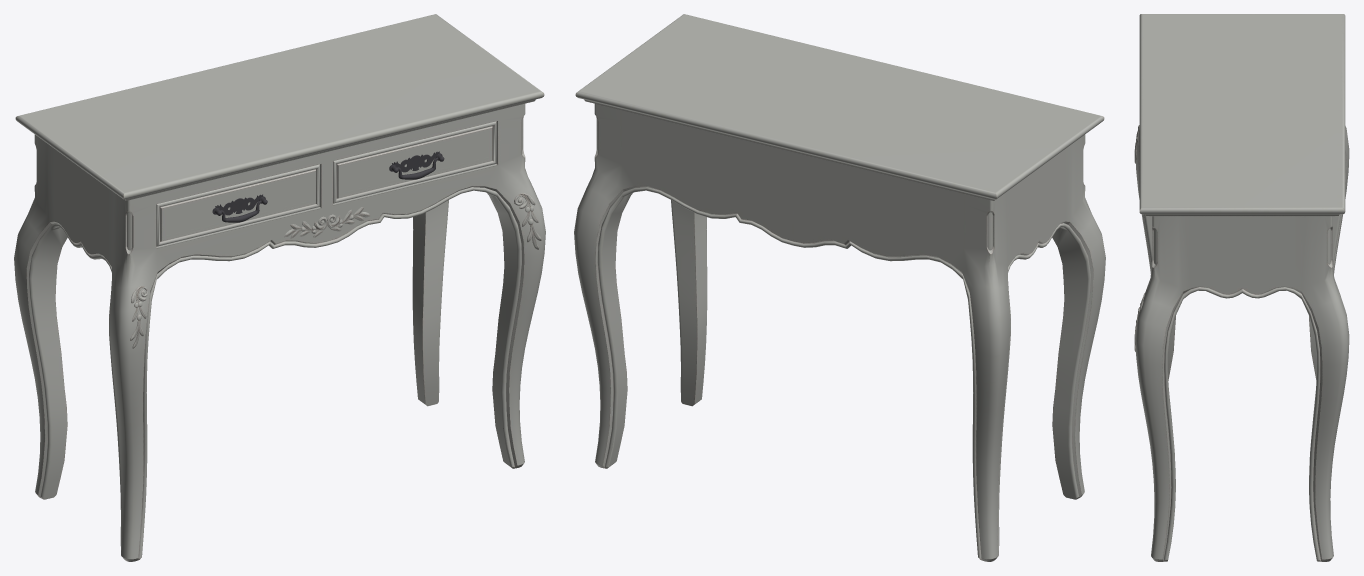
Rendered from example149.glb.
The picture shows the model from 3 angles, left to right: view 1: azimuth 30°, elevation 25°; view 2: azimuth 150°, elevation 25°; view 3: azimuth 270°, elevation 25°; orthographic projection. The views are drawn at different scales.
Visible parts, largest first — view 1: Buffer Layer (×2); view 2: Buffer Layer; view 3: Buffer Layer.
Part boxes in pixels (<box>): Buffer Layer (×2): <box>14,14,545,561</box>; Buffer Layer: <box>574,14,1105,561</box>; Buffer Layer: <box>1134,14,1349,561</box>.
Size of the model in its own units: 1 by 0.8414 by 0.4564.
2 materials, 2 textured.
